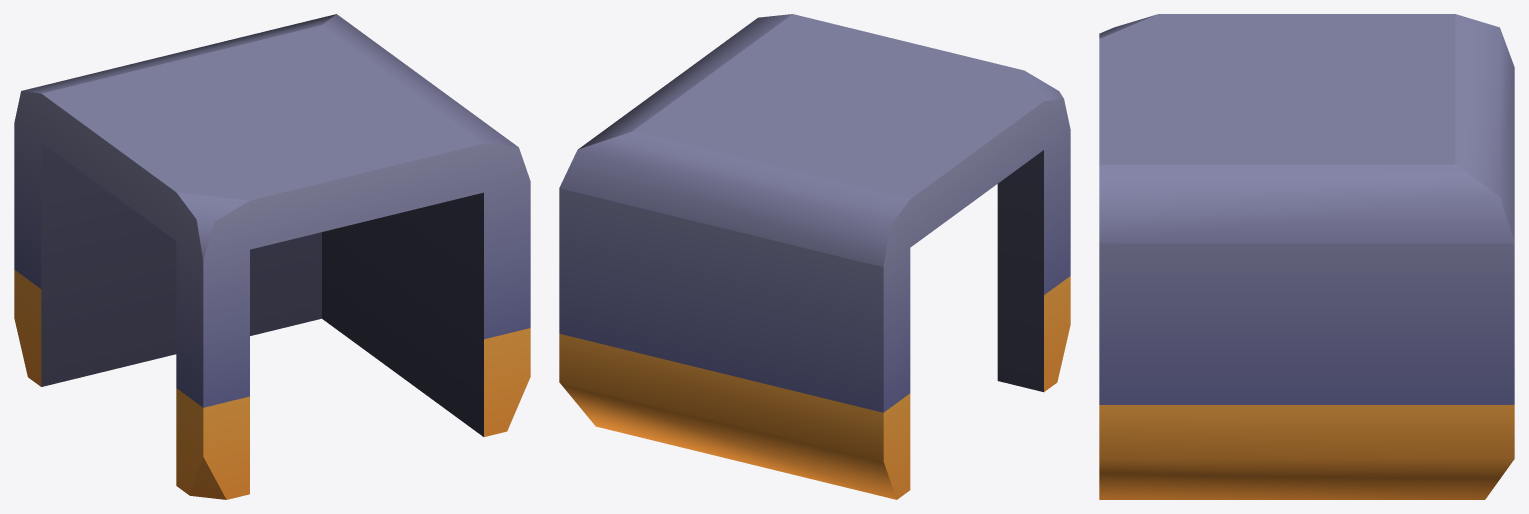
File: cover-stripe-corner.glb
3 views of the same model, side by side, from view 1: azimuth 30°, elevation 25°; view 2: azimuth 150°, elevation 25°; view 3: azimuth 270°, elevation 25° (orthographic). The views are drawn at different scales.
Parts seen in each view (by area): view 1: cover-stripe-corner; view 2: cover-stripe-corner; view 3: cover-stripe-corner.
Part boxes in pixels (x1,y1,x2,y2): cover-stripe-corner: (14, 14, 530, 499); cover-stripe-corner: (559, 14, 1070, 499); cover-stripe-corner: (1099, 14, 1514, 499).
Size of the model in its own units: 1.4 by 1.2 by 1.4.
